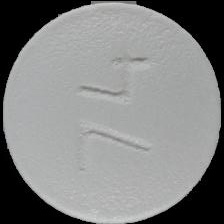55700-343: (0, 0, 224, 224)
